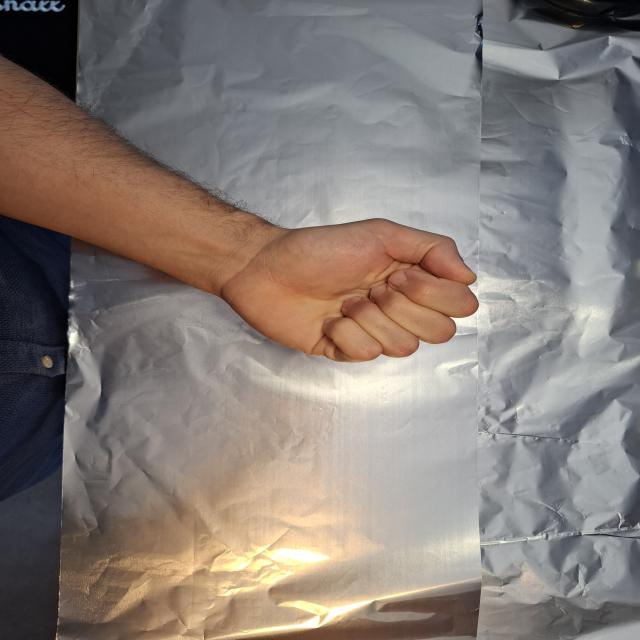glove_off: (207, 215, 482, 364)
